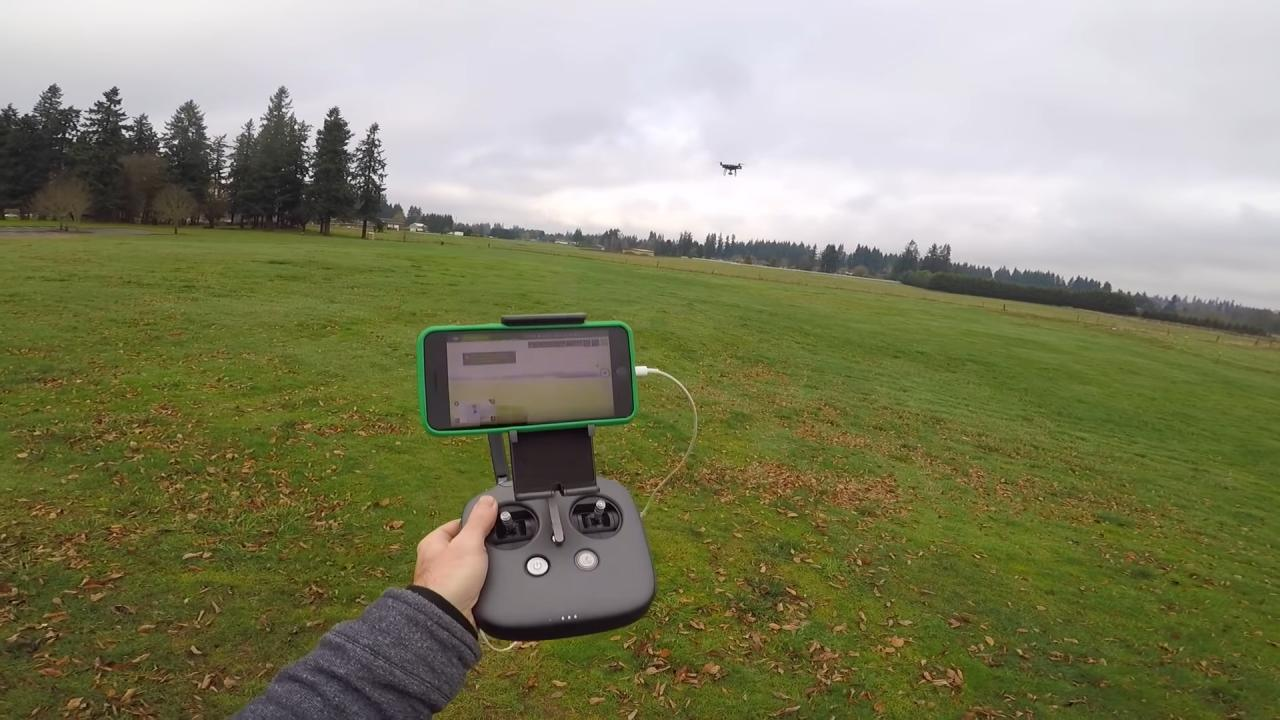Drone: (712, 154, 756, 181)
